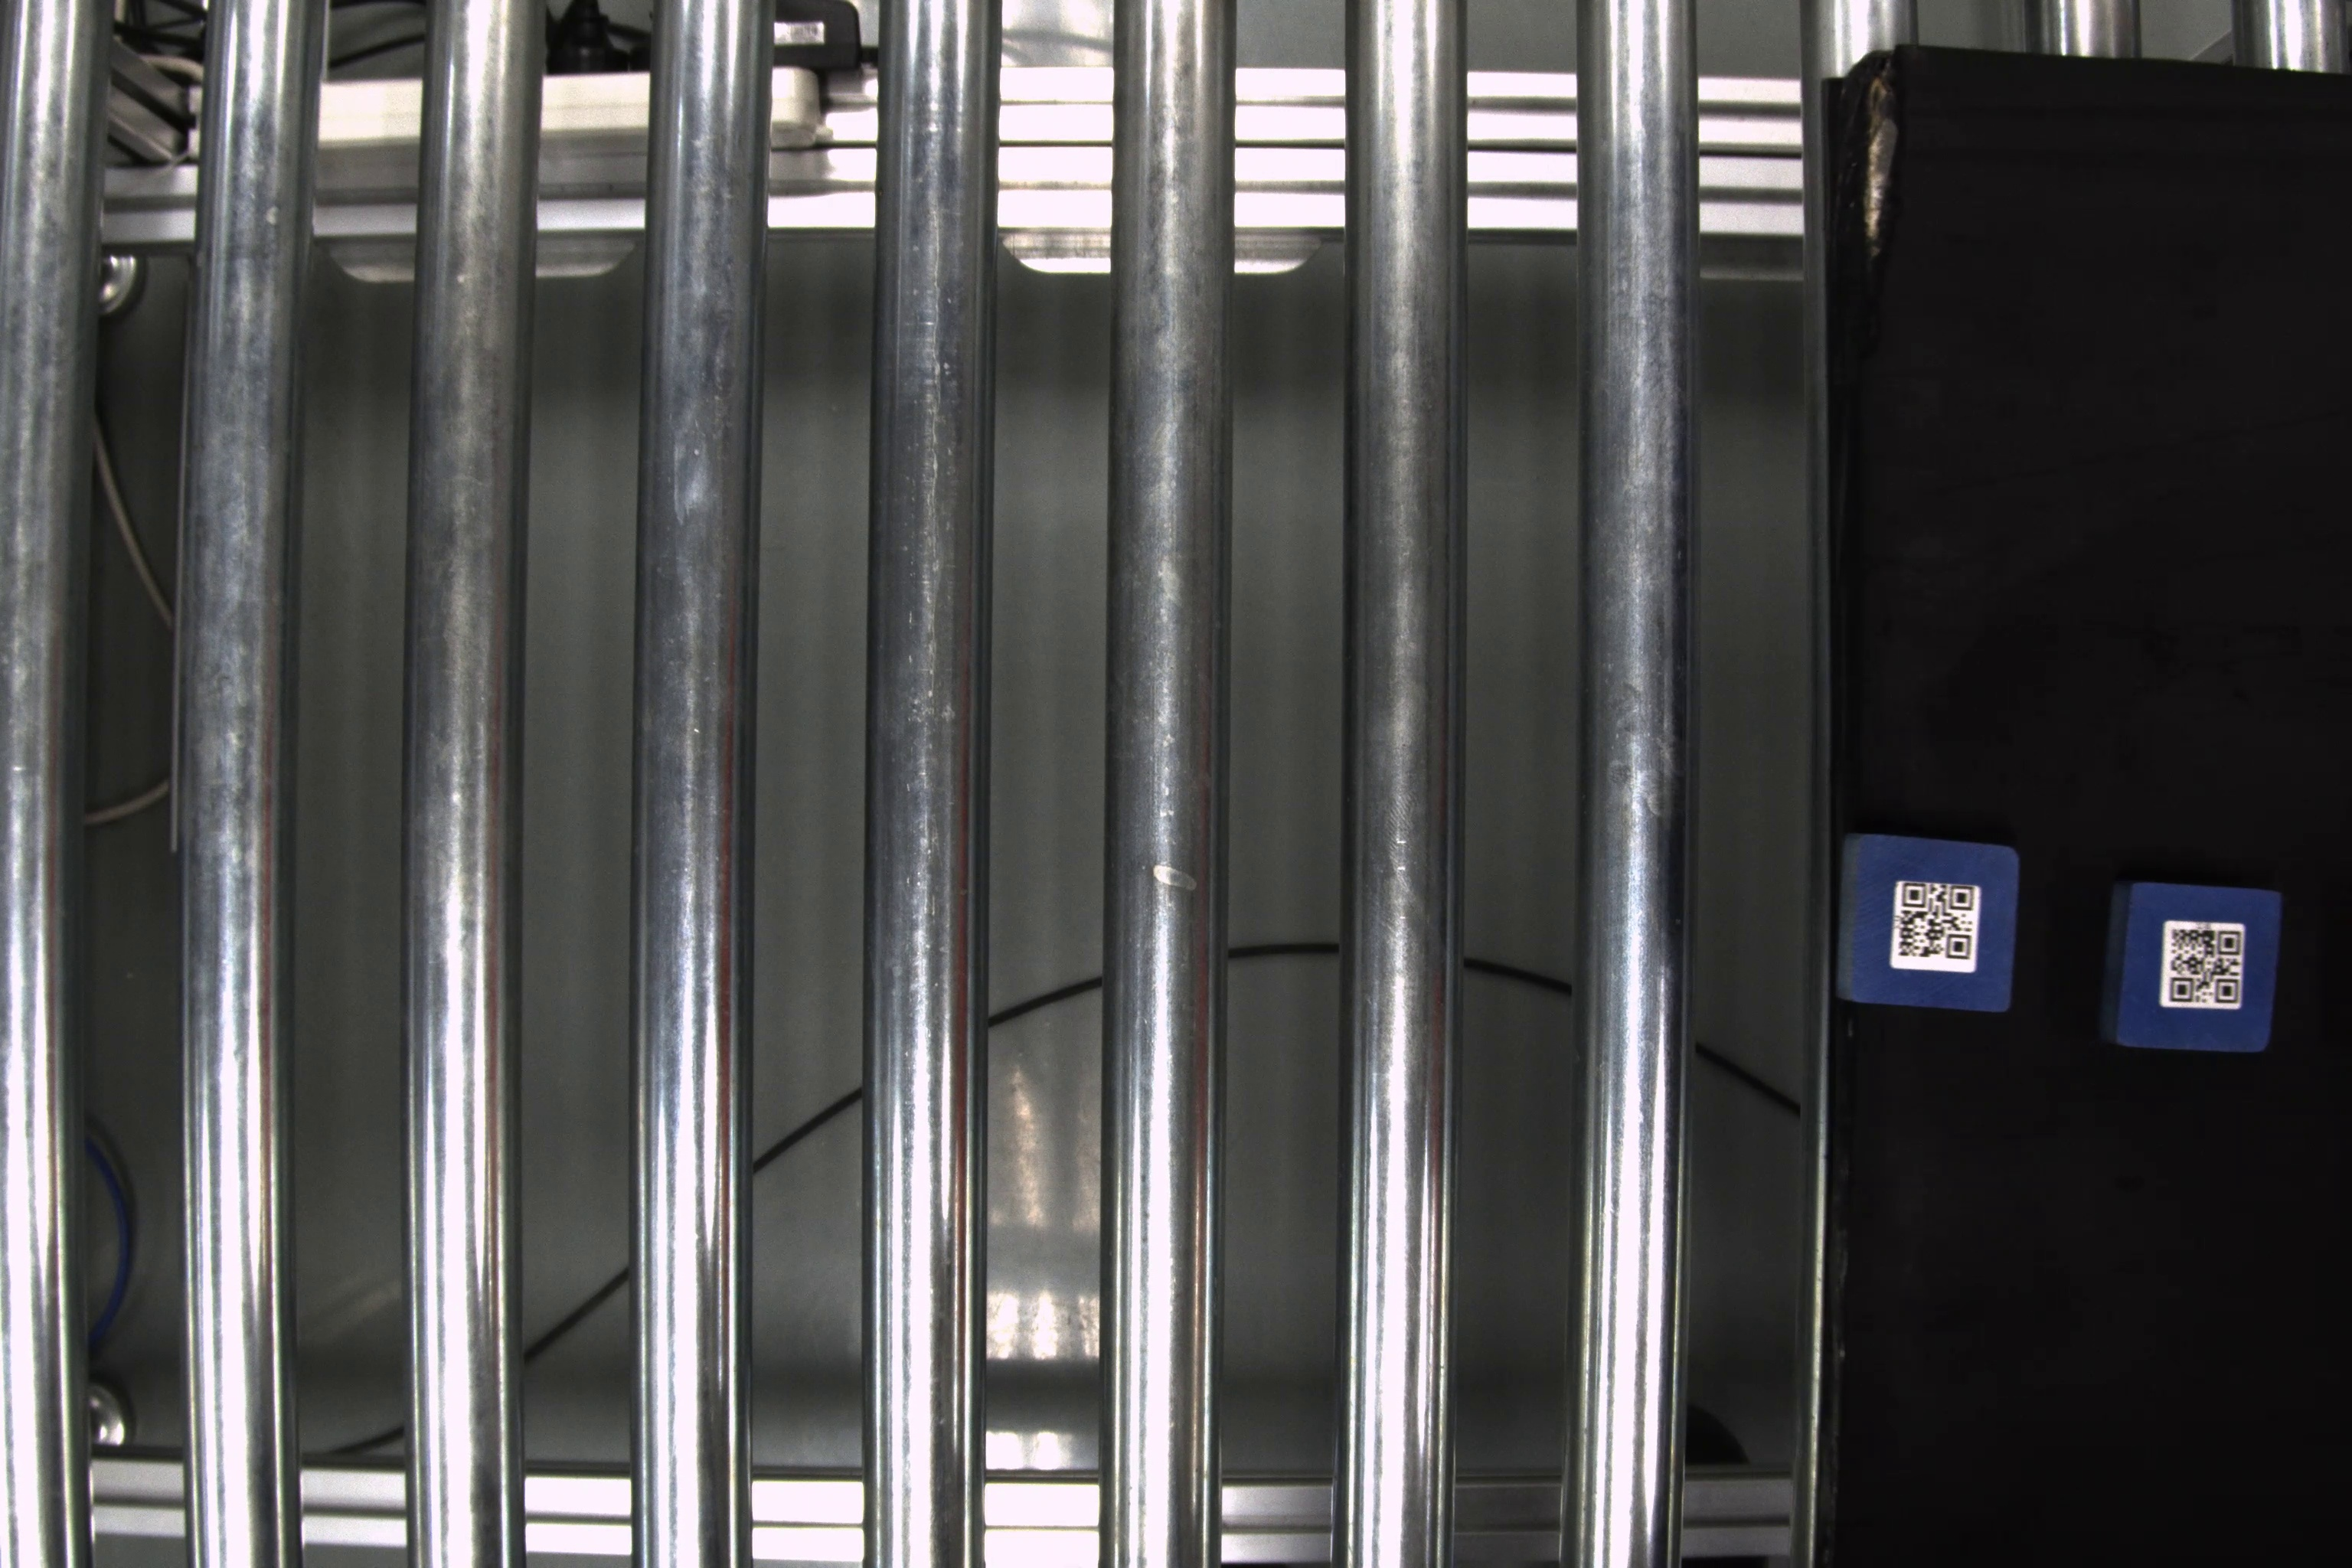wood: (1836, 826, 2025, 1015), (2100, 880, 2285, 1060)
